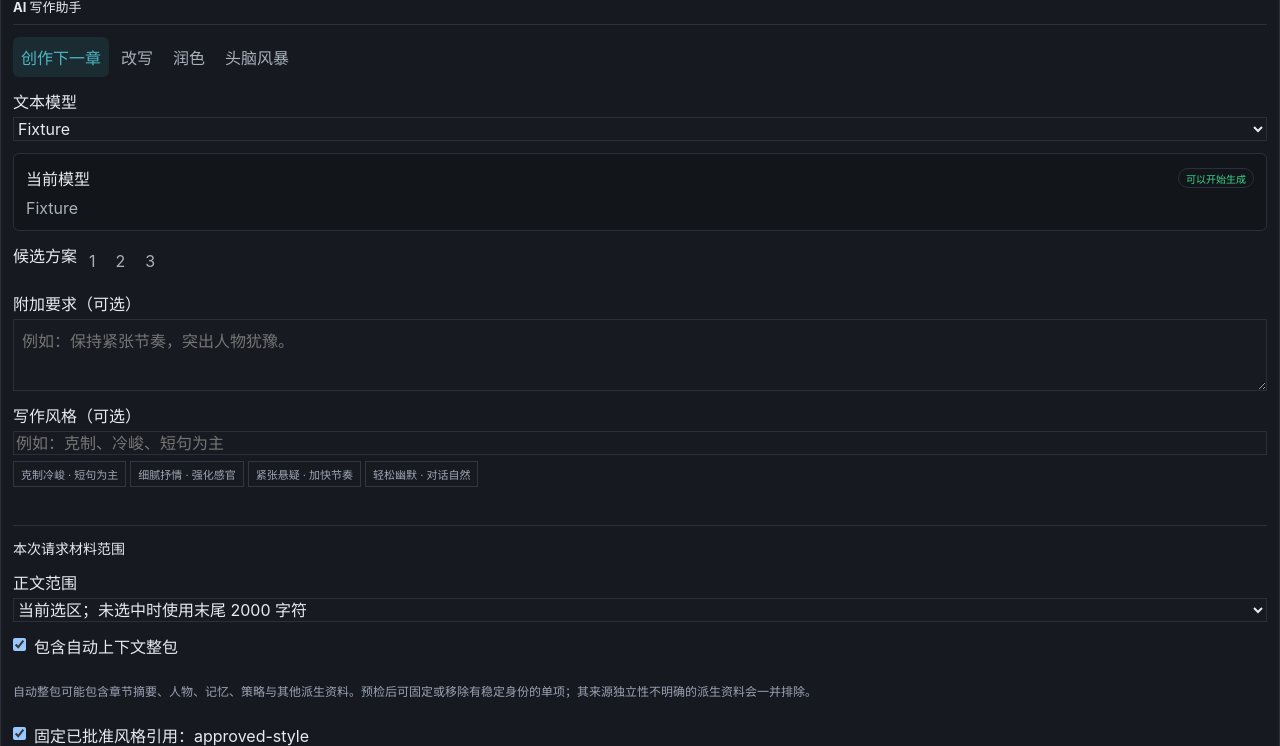
Test: request removals and exact variant mapping › reviews every variant once and passes its exact group, digest and job mapping
The width and height of the screenshot is (1280, 746).
Click the button "2".
click(120, 261)  # box left=108, top=243, right=133, bottom=279
(page scrolled)
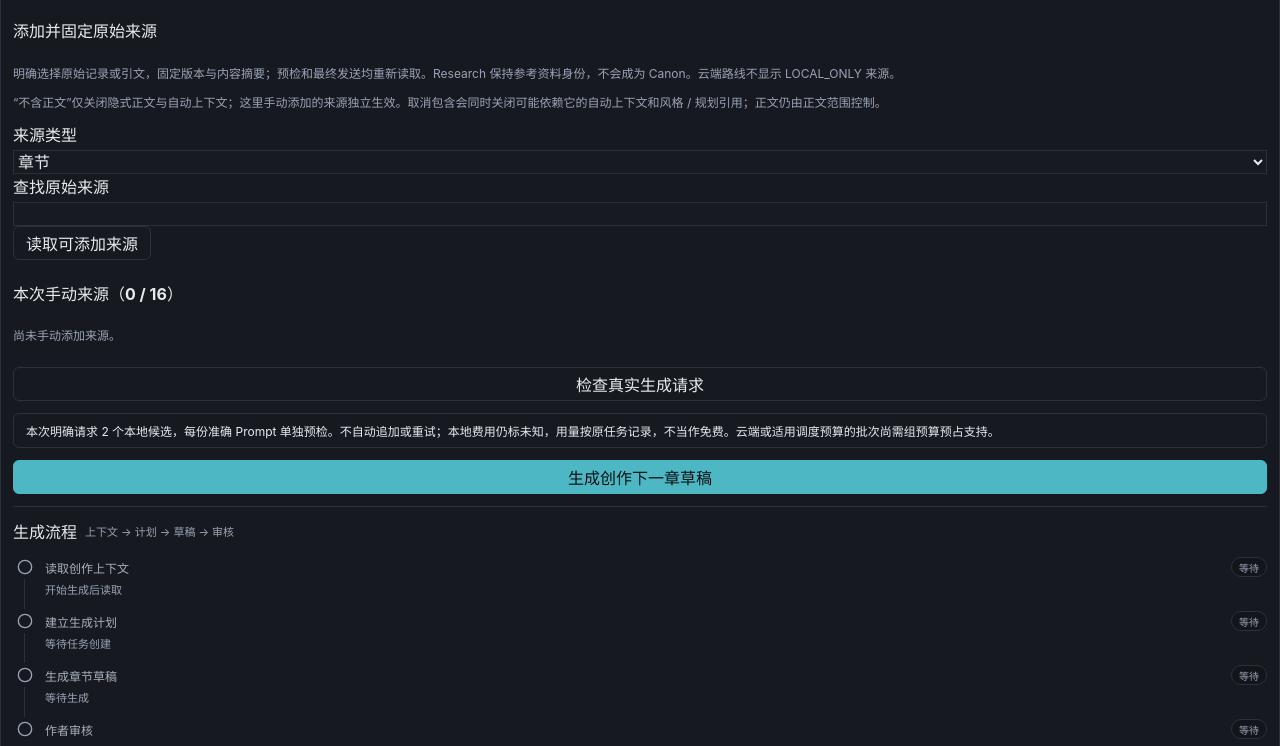
Expected: the button "生成创作下一章草稿" is disabled, left=13, top=460, right=1267, bottom=494
Click the button "检查真实生成请求".
click(640, 384)  # box left=13, top=367, right=1267, bottom=401
(page scrolled)
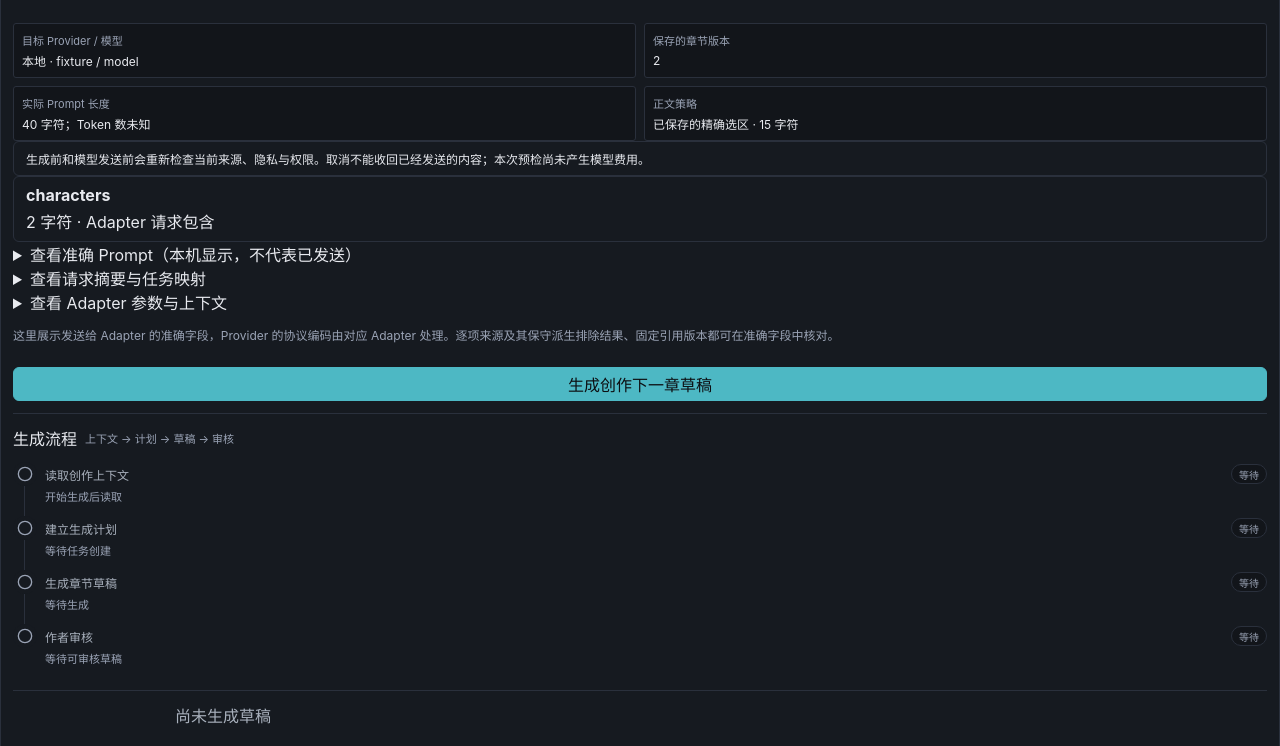
Click the button "生成创作下一章草稿".
click(640, 384)  # box left=13, top=367, right=1267, bottom=401
(page scrolled)
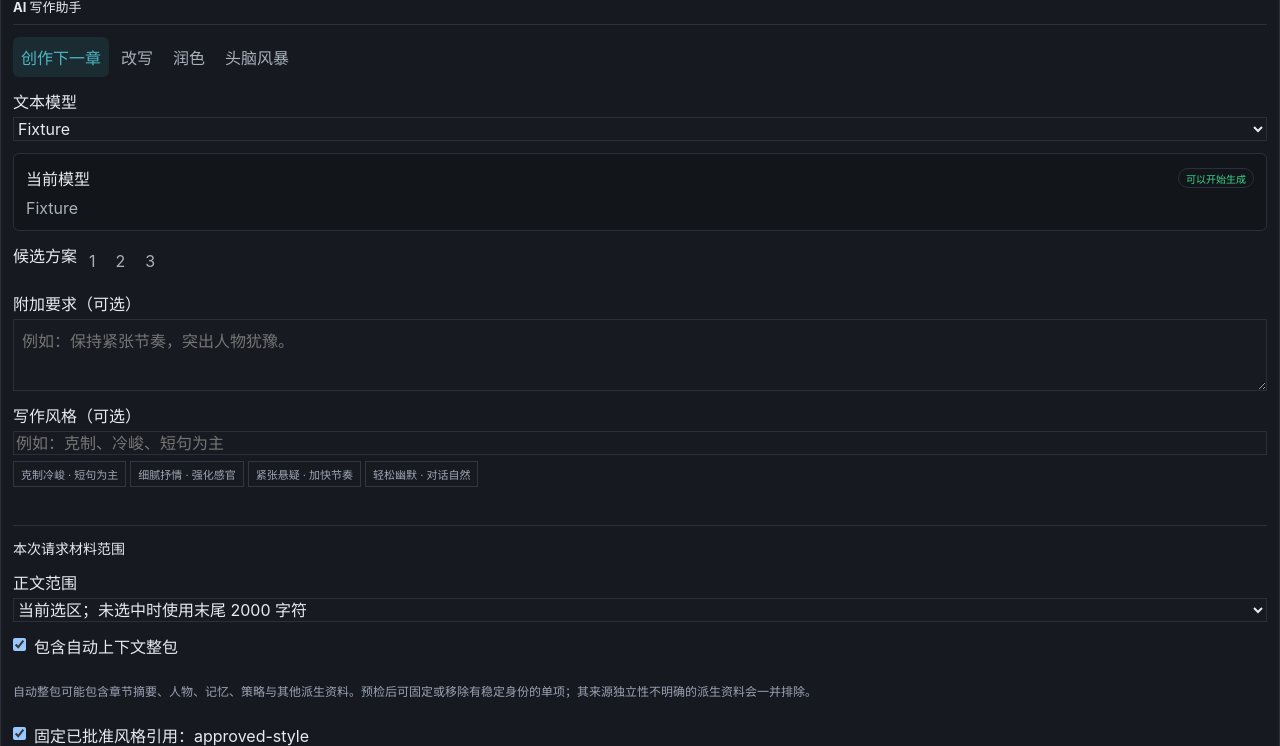
Click the button "3".
click(150, 261)  # box left=137, top=243, right=163, bottom=279
(page scrolled)
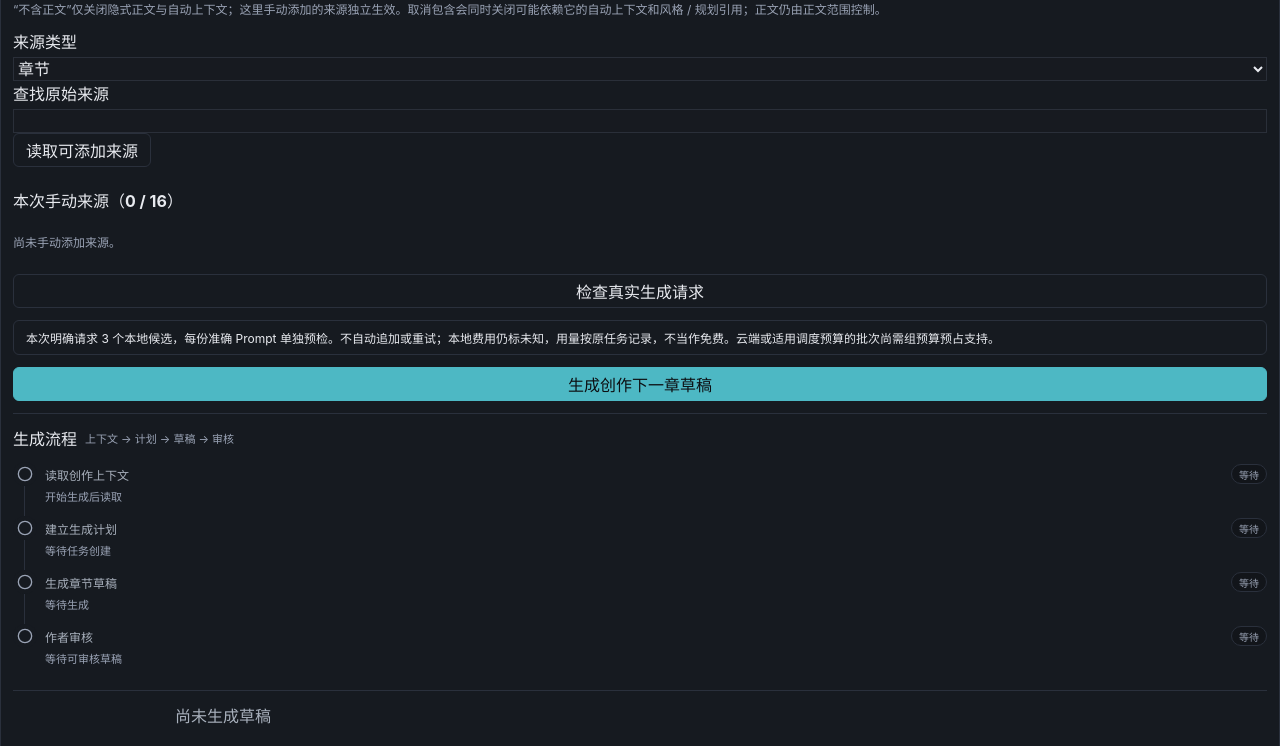
Now the button "生成创作下一章草稿" is disabled, box left=13, top=367, right=1267, bottom=401
